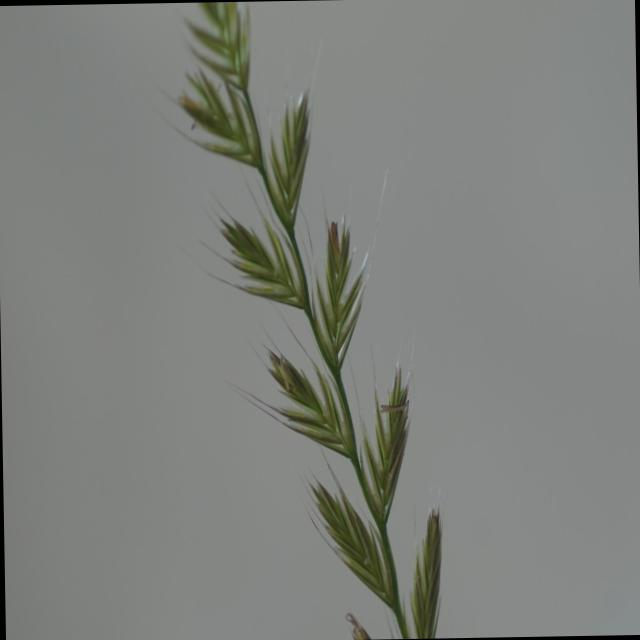Lolium: (164, 0, 448, 639)
